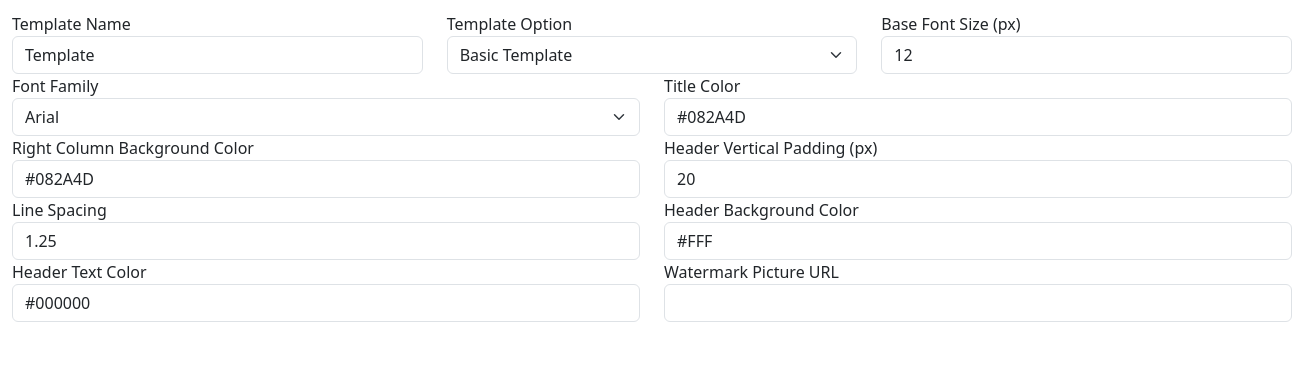
Test: TemplateForm › shows validation errors for required fields
The image size is (1304, 379).
Clear a required field
Clear the field labelled "Template Name" at (217, 55), box [12, 36, 423, 74]
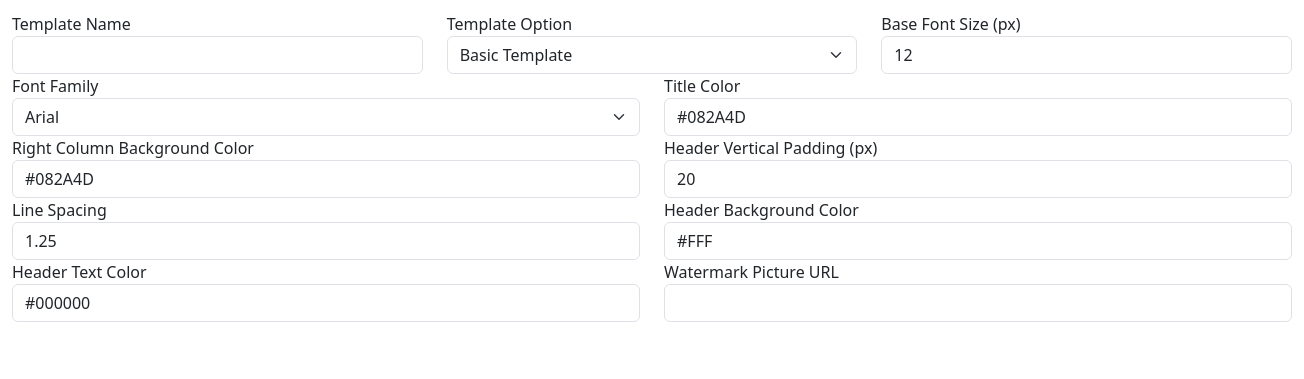
Trigger validation by trying to submit or change another field
Leave the field labelled "Template Name", box [12, 36, 423, 74]
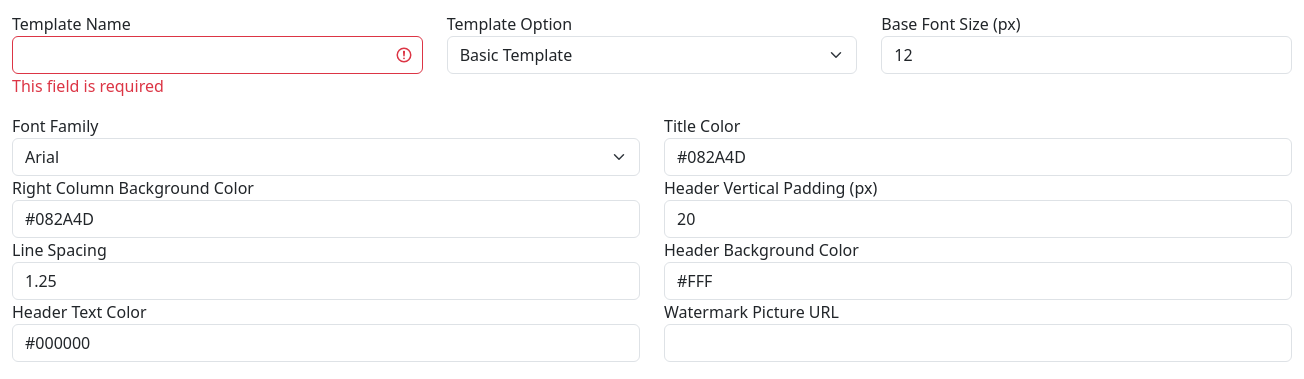
Expected: the text "This field is required" is shown, [12, 75, 164, 97]
